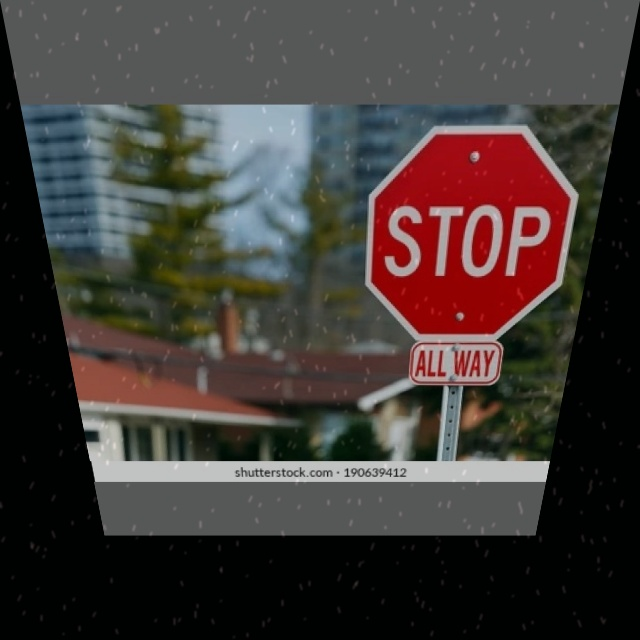Stop: (365, 125, 591, 340)
